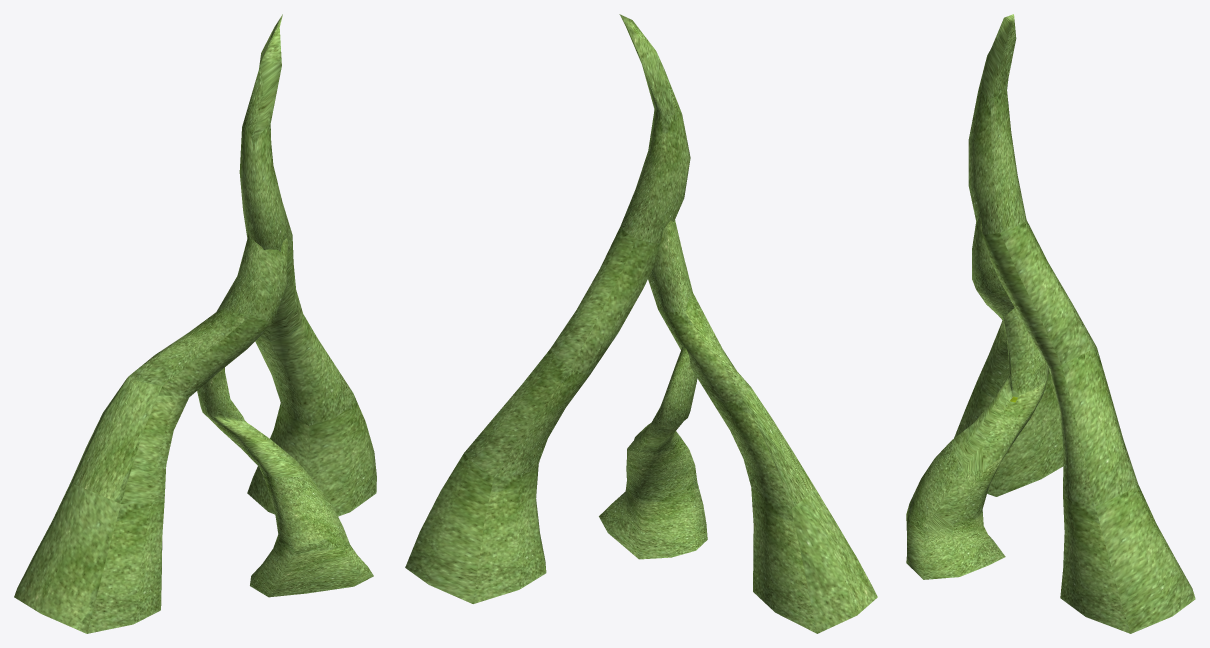
3 renders of one model, left to right at view 1: azimuth 30°, elevation 25°; view 2: azimuth 150°, elevation 25°; view 3: azimuth 270°, elevation 25°, orthographic.
Visible parts, largest first — view 1: ColobotMesh_1.002_ColobotMesh_.002, ColobotMesh_1_ColobotMesh_, ColobotMesh_1.001_ColobotMesh_.001; view 2: ColobotMesh_1_ColobotMesh_, ColobotMesh_1.002_ColobotMesh_.002, ColobotMesh_1.001_ColobotMesh_.001; view 3: ColobotMesh_1_ColobotMesh_, ColobotMesh_1.001_ColobotMesh_.001, ColobotMesh_1.002_ColobotMesh_.002.
Part boxes in pixels (box(x1,y1,x2,y2)): ColobotMesh_1.002_ColobotMesh_.002: box(14, 234, 287, 633); ColobotMesh_1_ColobotMesh_: box(239, 14, 376, 516); ColobotMesh_1.001_ColobotMesh_.001: box(197, 367, 373, 597); ColobotMesh_1_ColobotMesh_: box(405, 14, 690, 603); ColobotMesh_1.002_ColobotMesh_.002: box(648, 220, 877, 633); ColobotMesh_1.001_ColobotMesh_.001: box(599, 347, 707, 559); ColobotMesh_1_ColobotMesh_: box(968, 14, 1195, 633); ColobotMesh_1.001_ColobotMesh_.001: box(906, 308, 1049, 579); ColobotMesh_1.002_ColobotMesh_.002: box(954, 217, 1063, 496).
Bounding box in the file's own units: 12.79 × 16.49 × 7.86.
